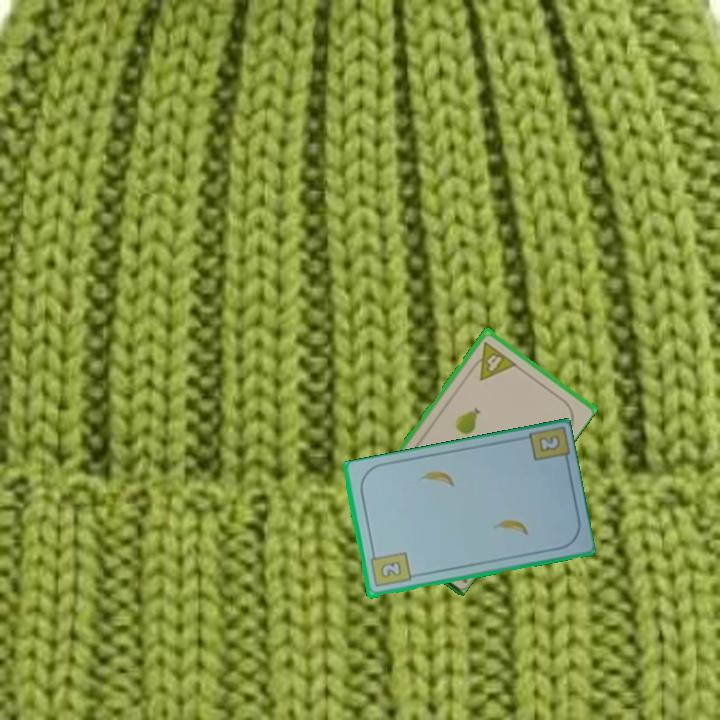2b: (367, 548, 413, 590), (535, 431, 563, 455)
4p: (466, 338, 518, 383)
